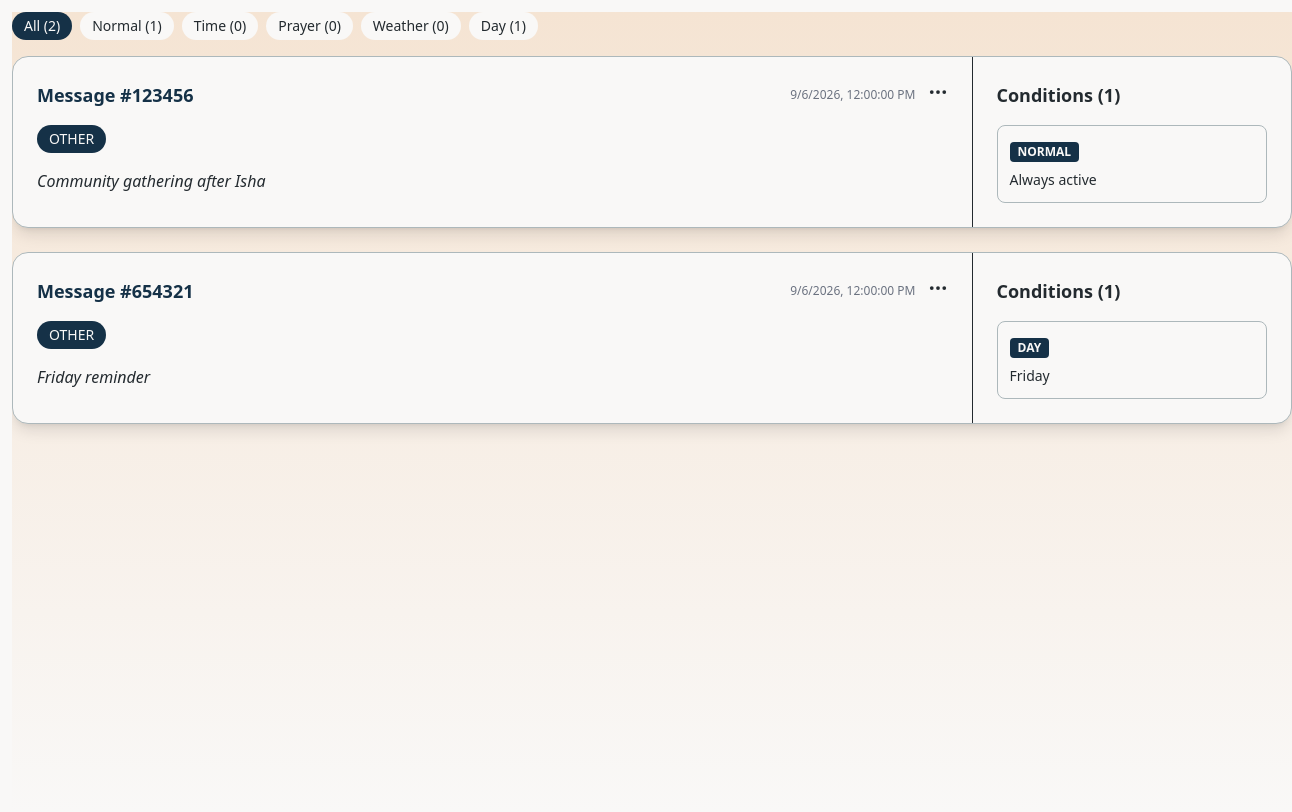
filters messages and exposes the selected filter to assistive technology
This screenshot has width=1292, height=812.
Click the button "Day (1)" at (503, 26), box [469,12,538,40]
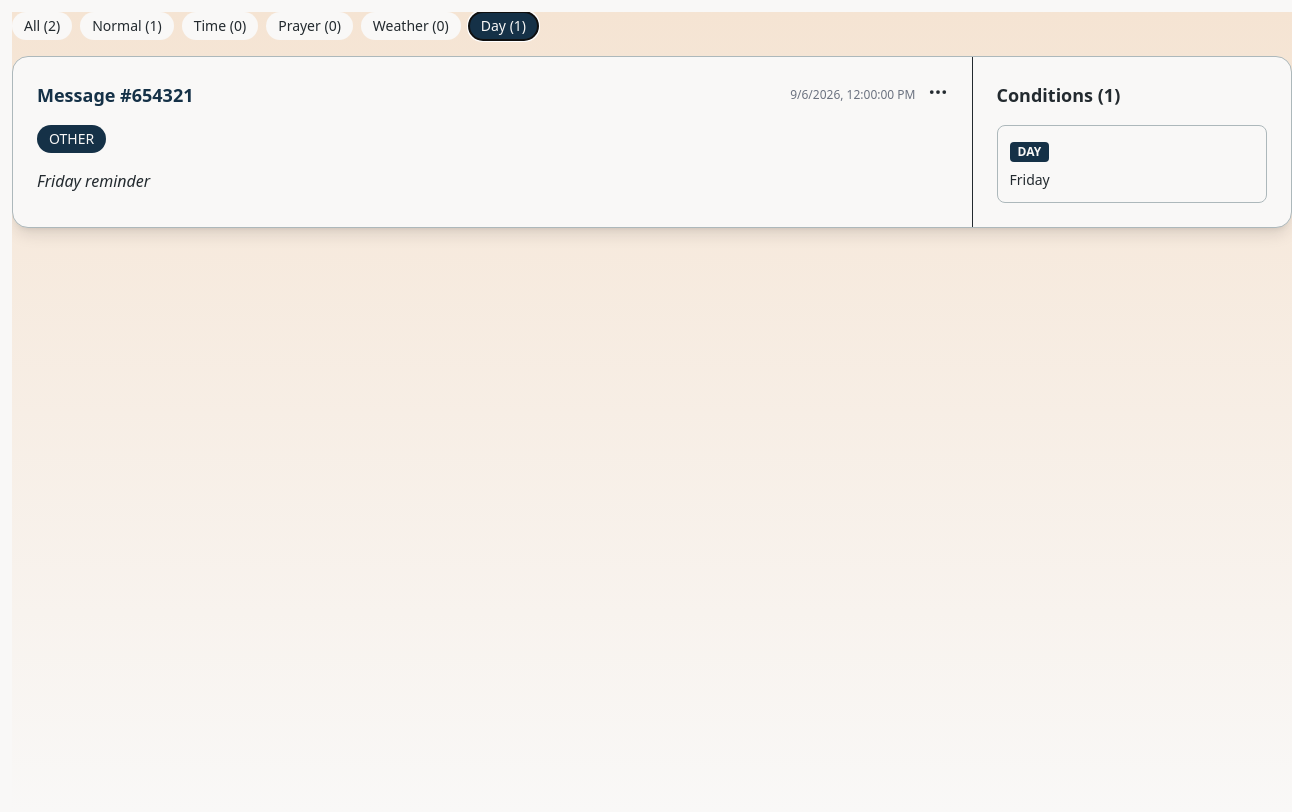
Expected: the text "Friday reminder" is shown, [37,170,150,192]
Now the text "Community gathering after Isha" is gone
